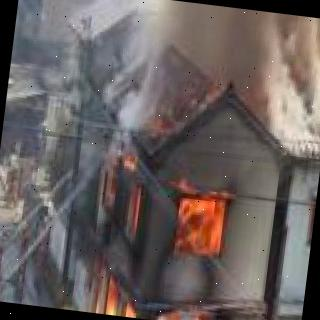fire: (57, 131, 305, 320), (303, 188, 318, 250)
